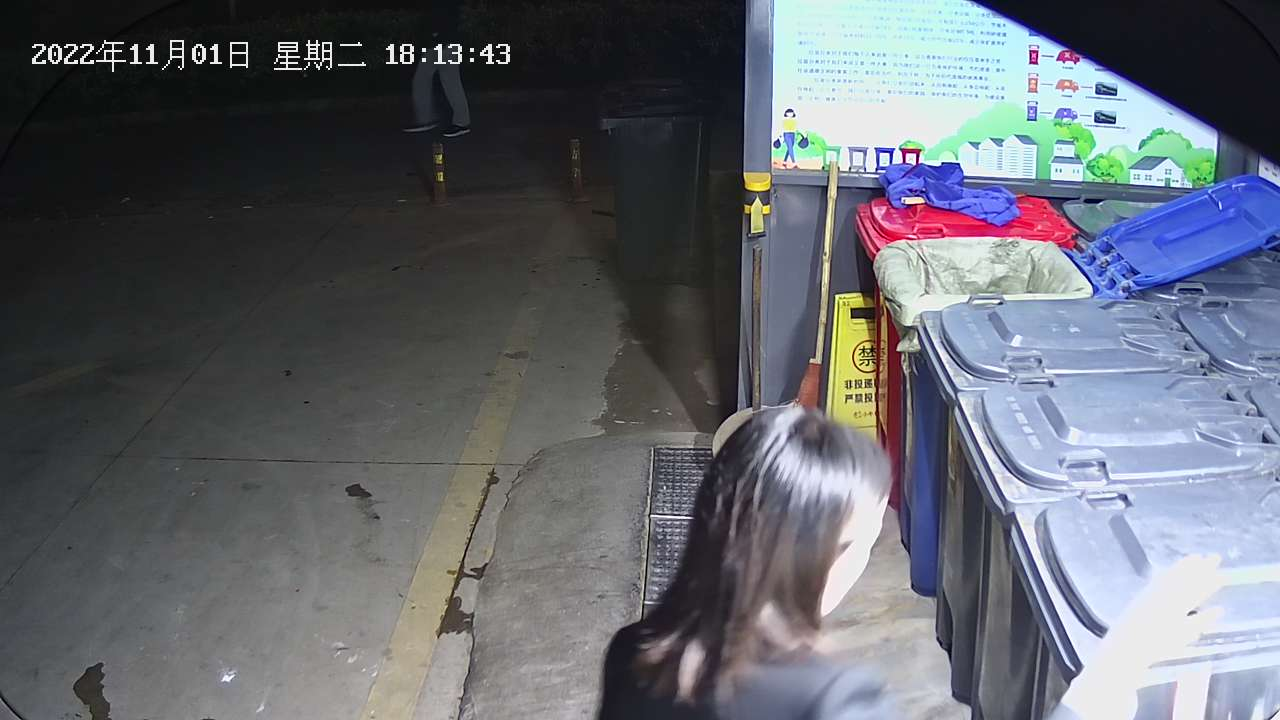person: (592, 406, 1231, 720)
